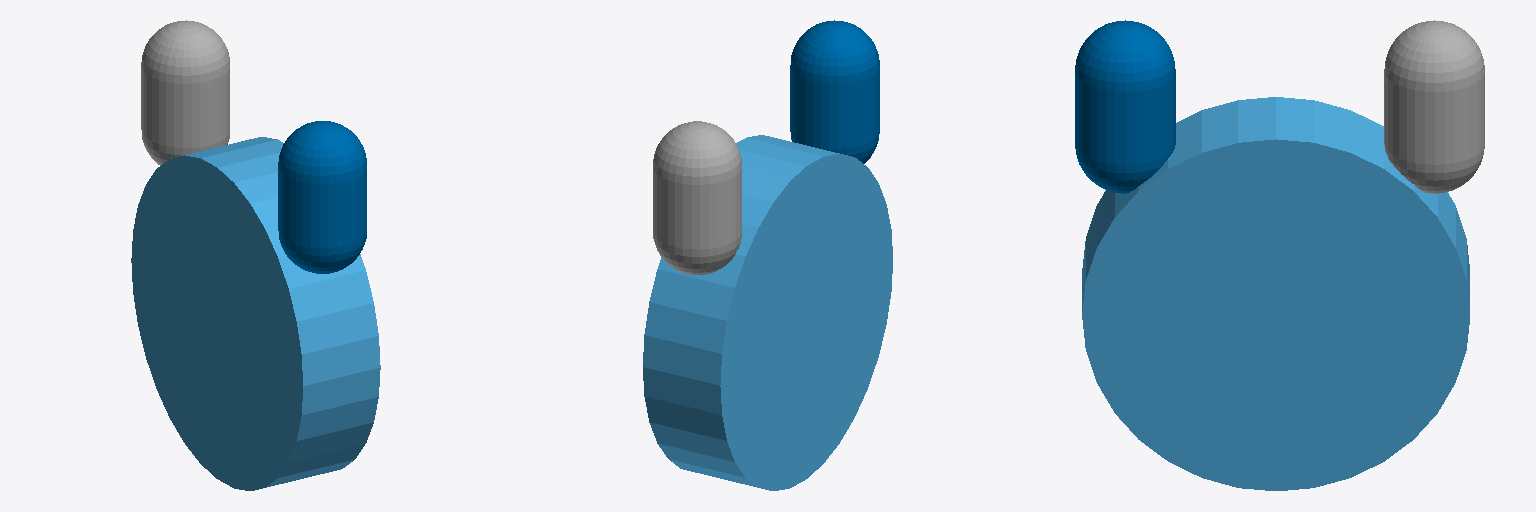
URDF robot description (DexterousHand):
<?xml version="1.0"?>
<robot name="DexterousHand">


    <link name="world"/>
    <joint name="world_to_palm" type="fixed">
        <parent link="world"/>
        <child link="palm"/>
        <origin xyz="0 0 0" rpy="0 0 0"/>
    </joint>
    <link name="palm">
        <inertial>
            <origin xyz="0 0 0.057" rpy="0 0 0"/>
            <mass value="0.30212892864"/>
            <inertia ixx="0.00049080844457568" ixy="0.0" ixz="0.0" iyy="0.00026746366246427523" iyz="0.0" izz="0.00026746366246427523"/>
        </inertial>
        <visual>
            <origin xyz="0 0 0.057" rpy="1.5708 0 1.5708"/>
            <geometry>
                <cylinder radius="0.057" length="0.0296"/>
            </geometry>
            <material name="default"/>
        </visual>
        <collision>
            <origin xyz="0 0 0.057" rpy="1.5708 0 1.5708"/>
            <geometry>
                <cylinder radius="0.057" length="0.0296"/>
            </geometry>
        </collision>
    </link>

    
    <joint name="thumb_joint1" type="revolute">
        <parent link="palm"/>
        <child link="thumb_base"/>
        <origin xyz="0.0 0.0 0.0" rpy="0.0 0.0 0.0"/>
        <axis xyz="1 0 0"/>
        <limit lower="0.0" upper="0.0" effort="1.0" velocity="1.0"/>
    </joint>

    <link name="thumb_base"></link>

    <joint name="thumb_joint2" type="revolute">
        <parent link="thumb_base"/>
        <child link="thumb_proximal"/>
        <origin xyz="0.0 0.0 0.0" rpy="0.0 0.0 0.0"/>
        <axis xyz="0 1 0"/>
        <limit lower="0.0" upper="0.0" effort="1.0" velocity="1.0"/>
    </joint>

    <link name="thumb_proximal">
    </link>

    <joint name="thumb_joint3" type="revolute">
        <parent link="thumb_proximal"/>
        <child link="thumb_knuckle"/>
        <origin xyz="0.0 0.0 0.0" rpy="0.0 0.0 0.0"/>
        <axis xyz="1 0 0"/>
        <limit lower="0.0" upper="0.0" effort="1.0" velocity="1.0"/>
    </joint>

    <link name="thumb_knuckle"></link>

    <joint name="thumb_joint4" type="revolute">
        <parent link="thumb_knuckle"/>
        <child link="thumb_middle"/>
        <origin xyz="0 0 0" rpy="0 0 0"/> 
        <axis xyz="0 1 0"/>
        <limit lower="0.0" upper="0.0" effort="1.0" velocity="1.0"/>
    </joint>

    <link name="thumb_middle">
    </link>

    <joint name="thumb_joint5" type="revolute">
        <parent link="thumb_middle"/>
        <child link="thumb_distal"/>
        <origin xyz="0 0 0" rpy="0 0 0"/> 
        <axis xyz="0 1 0"/>
        <limit lower="0.0" upper="0.0" effort="1.0" velocity="1.0"/>
    </joint>

    <link name="thumb_distal">
    </link>

    
    <joint name="index_joint1" type="revolute">
        <parent link="palm"/>
        <child link="index_proximal"/>
        <origin xyz="0.0 0.0465 0.091" rpy="0.0 0.0 0.0"/>
        <axis xyz="0 1 0"/>
        <limit lower="-0.314" upper="2.23" effort="1.0" velocity="1.0"/>
    </joint>

    <link name="index_proximal">
        <inertial>
            <origin xyz="0 0 0.02655" rpy="0 0 0"/>
            <mass value="0.036540024998400006"/>
            <inertia ixx="1.058665009272394e-05" ixy="0.0" ixz="0.0" 
            iyy="1.058665009272394e-05" iyz="0.0" izz="4.001863537824769e-06"/>
        </inertial>
        <visual>
            <origin xyz="0 0 0.02655" rpy="0 0 0"/>
            <geometry>
                <cylinder radius="0.0148" length="0.0235"/>
            </geometry>
            <material name="default"/>
        </visual>
        <visual>
            <origin xyz="0 0 0.0148" rpy="0 0 0"/>
            <geometry>
                <sphere radius="0.0148"/>
            </geometry>
            <material name="default"/>
        </visual>
        <visual>
            <origin xyz="0 0 0.0383" rpy="0 0 0"/>
            <geometry>
                <sphere radius="0.0148"/>
            </geometry>
            <material name="default"/>
        </visual>
        <collision>
            <origin xyz="0 0 0.02655" rpy="0 0 0"/>
            <geometry>
                <cylinder radius="0.0148" length="0.0235"/>
            </geometry>
        </collision>
        <collision>
            <origin xyz="0 0 0.0148" rpy="0 0 0"/>
            <geometry>
                <sphere radius="0.0148"/>
            </geometry>
        </collision>
        <collision>
            <origin xyz="0 0 0.0383" rpy="0 0 0"/>
            <geometry>
                <sphere radius="0.0148"/>
            </geometry>
        </collision>
    </link>

    <joint name="index_joint2" type="revolute">
        <parent link="index_proximal"/>
        <child link="index_dummy"/>
        <origin xyz="0.0 0.0 0.038" rpy="0.0 0.0 0.0"/>
        <axis xyz="0 1 0"/>
        <limit lower="0.0" upper="0.0" effort="1.0" velocity="1.0"/>
    </joint>

    <link name="index_dummy"></link>

    <joint name="index_joint3" type="revolute">
        <parent link="index_dummy"/>
        <child link="index_middle"/>
        <origin xyz="0 0 0.015100000000000002" rpy="0 0 0"/>
        <axis xyz="0 1 0"/>
        <limit lower="0.0" upper="0.0" effort="1.0" velocity="1.0"/>
    </joint>

    <link name="index_middle">
    </link>

    <joint name="index_joint4" type="revolute">
        <parent link="index_middle"/>
        <child link="index_distal"/>
        <origin xyz="0 0 0" rpy="0 0 0"/> 
        <axis xyz="0 1 0"/>
        <limit lower="0.0" upper="0.0" effort="1.0" velocity="1.0"/>
    </joint>

    <link name="index_distal">
    </link>

    
    <joint name="middle_joint1" type="revolute">
        <parent link="palm"/>
        <child link="middle_proximal"/>
        <origin xyz="0.0 0.0 0.0" rpy="0.0 0.0 0.0"/>
        <axis xyz="1 0 0"/>
        <limit lower="0.0" upper="0.0" effort="1.0" velocity="1.0"/>
    </joint>

    <link name="middle_proximal">
    </link>

    <joint name="middle_joint2" type="revolute">
        <parent link="middle_proximal"/>
        <child link="middle_dummy"/>
        <origin xyz="0.0 0.0 0.0" rpy="0.0 0.0 0.0"/>
        <axis xyz="0 1 0"/>
        <limit lower="0.0" upper="0.0" effort="1.0" velocity="1.0"/>
    </joint>

    <link name="middle_dummy"></link>

    <joint name="middle_joint3" type="revolute">
        <parent link="middle_dummy"/>
        <child link="middle_middle"/>
        <origin xyz="0 0 0" rpy="0 0 0"/>
        <axis xyz="0 1 0"/>
        <limit lower="0.0" upper="0.0" effort="1.0" velocity="1.0"/>
    </joint>

    <link name="middle_middle">
    </link>

    <joint name="middle_joint4" type="revolute">
        <parent link="middle_middle"/>
        <child link="middle_distal"/>
        <origin xyz="0 0 0" rpy="0 0 0"/> 
        <axis xyz="0 1 0"/>
        <limit lower="0.0" upper="0.0" effort="1.0" velocity="1.0"/>
    </joint>

    <link name="middle_distal">
    </link>

    
    <joint name="ring_joint1" type="revolute">
        <parent link="palm"/>
        <child link="ring_proximal"/>
        <origin xyz="0.0 0.0 0.0" rpy="0.0 0.0 0.0"/>
        <axis xyz="1 0 0"/>
        <limit lower="0.0" upper="0.0" effort="1.0" velocity="1.0"/>
    </joint>

    <link name="ring_proximal">
    </link>

    <joint name="ring_joint2" type="revolute">
        <parent link="ring_proximal"/>
        <child link="ring_dummy"/>
        <origin xyz="0.0 0.0 0.0" rpy="0.0 0.0 0.0"/>
        <axis xyz="0 1 0"/>
        <limit lower="0.0" upper="0.0" effort="1.0" velocity="1.0"/>
    </joint>

    <link name="ring_dummy"></link>

    <joint name="ring_joint3" type="revolute">
        <parent link="ring_dummy"/>
        <child link="ring_middle"/>
        <origin xyz="0 0 0" rpy="0 0 0"/>
        <axis xyz="0 1 0"/>
        <limit lower="0.0" upper="0.0" effort="1.0" velocity="1.0"/>
    </joint>

    <link name="ring_middle">
    </link>

    <joint name="ring_joint4" type="revolute">
        <parent link="ring_middle"/>
        <child link="ring_distal"/>
        <origin xyz="0 0 0" rpy="0 0 0"/> 
        <axis xyz="0 1 0"/>
        <limit lower="0.0" upper="0.0" effort="1.0" velocity="1.0"/>
    </joint>

    <link name="ring_distal">
    </link>

    
    <joint name="little_joint0" type="revolute">
        <parent link="palm"/>
        <child link="little_base"/>
        <origin xyz="0.0 0.0 0.0" rpy="0.0 0.0 0.0"/>
        <axis xyz="0 1 0"/>
        <limit lower="0.0" upper="0.0" effort="1.0" velocity="1.0"/>
    </joint>

    <link name="little_base"></link>

    <joint name="little_joint1" type="revolute">
        <parent link="little_base"/>
        <child link="little_proximal"/>
        <origin xyz="0.0 -0.0443 0.091" rpy="-0.0 -0.0 -0.0"/>
        <axis xyz="0 1 0"/>
        <limit lower="-0.314" upper="2.23" effort="1.0" velocity="1.0"/>
    </joint>

    <link name="little_proximal">
        <inertial>
            <origin xyz="0 0 0.02655" rpy="0 0 0"/>
            <mass value="0.036540024998400006"/>
            <inertia ixx="1.058665009272394e-05" ixy="0.0" ixz="0.0" 
            iyy="1.058665009272394e-05" iyz="0.0" izz="4.001863537824769e-06"/>
        </inertial>
        <visual>
            <origin xyz="0 0 0.02655" rpy="0 0 0"/>
            <geometry>
                <cylinder radius="0.0148" length="0.0235"/>
            </geometry>
            <material name="default"/>
        </visual>
        <visual>
            <origin xyz="0 0 0.0148" rpy="0 0 0"/>
            <geometry>
                <sphere radius="0.0148"/>
            </geometry>
            <material name="default"/>
        </visual>
        <visual>
            <origin xyz="0 0 0.0383" rpy="0 0 0"/>
            <geometry>
                <sphere radius="0.0148"/>
            </geometry>
            <material name="default"/>
        </visual>
        <collision>
            <origin xyz="0 0 0.02655" rpy="0 0 0"/>
            <geometry>
                <cylinder radius="0.0148" length="0.0235"/>
            </geometry>
        </collision>
        <collision>
            <origin xyz="0 0 0.0148" rpy="0 0 0"/>
            <geometry>
                <sphere radius="0.0148"/>
            </geometry>
        </collision>
        <collision>
            <origin xyz="0 0 0.0383" rpy="0 0 0"/>
            <geometry>
                <sphere radius="0.0148"/>
            </geometry>
        </collision>
    </link>

    <joint name="little_joint2" type="revolute">
        <parent link="little_proximal"/>
        <child link="little_dummy"/>
        <origin xyz="0.0 0.0 0.038" rpy="0.0 0.0 0.0"/>
        <axis xyz="0 1 0"/>
        <limit lower="0.0" upper="0.0" effort="1.0" velocity="1.0"/>
    </joint>

    <link name="little_dummy"></link>

    <joint name="little_joint3" type="revolute">
        <parent link="little_dummy"/>
        <child link="little_middle"/>
        <origin xyz="0 0 0.015100000000000002" rpy="0 0 0"/>
        <axis xyz="0 1 0"/>
        <limit lower="0.0" upper="0.0" effort="1.0" velocity="1.0"/>
    </joint>

    <link name="little_middle">
    </link>

    <joint name="little_joint4" type="revolute">
        <parent link="little_middle"/>
        <child link="little_distal"/>
        <origin xyz="0 0 0" rpy="0 0 0"/>
        <axis xyz="0 1 0"/>
        <limit lower="0.0" upper="0.0" effort="1.0" velocity="1.0"/>
    </joint>

    <link name="little_distal">
    </link>

</robot>

--- Facts derived from the render (not from the file) ---
Views: 3 orthographic renders of the robot side by side, from view 1: azimuth 30°, elevation 25°; view 2: azimuth 150°, elevation 25°; view 3: azimuth 270°, elevation 25°.
Model DexterousHand with 24 links and 23 joints (22 revolute, 1 fixed), rooted at world, posed all joints at 0.
Visible links, largest first — view 1: palm, little_proximal, index_proximal; view 2: palm, index_proximal, little_proximal; view 3: palm, index_proximal, little_proximal.
Boxes of the visible links, left/top/right/bottom form: palm: left=131, top=137, right=380, bottom=490; little_proximal: left=278, top=121, right=366, bottom=273; index_proximal: left=141, top=20, right=229, bottom=165; palm: left=643, top=135, right=892, bottom=490; index_proximal: left=653, top=121, right=741, bottom=274; little_proximal: left=790, top=20, right=879, bottom=163; palm: left=1082, top=97, right=1469, bottom=490; index_proximal: left=1384, top=20, right=1484, bottom=193; little_proximal: left=1075, top=20, right=1175, bottom=193.
Size in the robot's own frame: 0.0296 by 0.1204 by 0.1441 metres.
Geometry: primitives only (box / cylinder / sphere), no mesh files.
